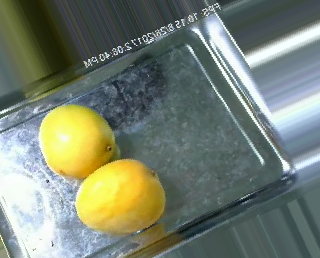Mango: (76, 156, 164, 232), (35, 102, 120, 177)
